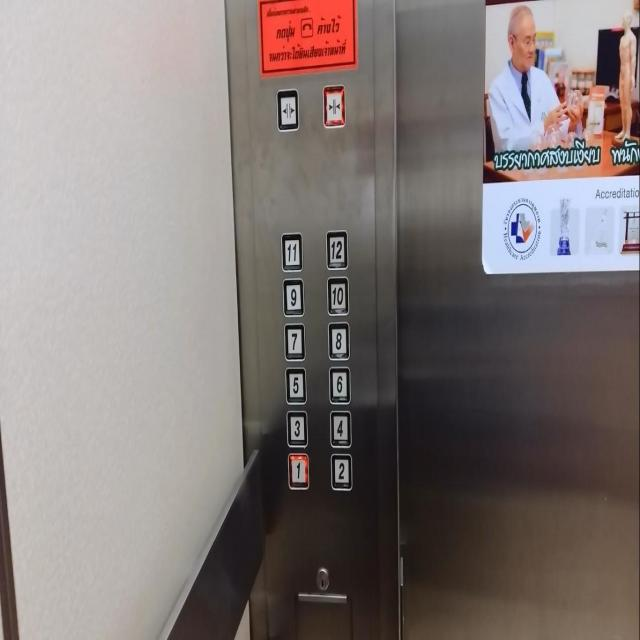1: (286, 450, 310, 492)
10: (326, 274, 350, 318)
11: (280, 228, 304, 274)
12: (324, 226, 349, 272)
2: (329, 451, 353, 492)
3: (285, 408, 308, 449)
4: (328, 408, 352, 450)
5: (284, 364, 307, 406)
6: (327, 363, 351, 405)
7: (282, 319, 306, 363)
8: (326, 318, 351, 362)
9: (280, 275, 304, 318)
close: (322, 82, 346, 128)
keyhole: (313, 565, 332, 594)
open: (275, 86, 300, 132)
